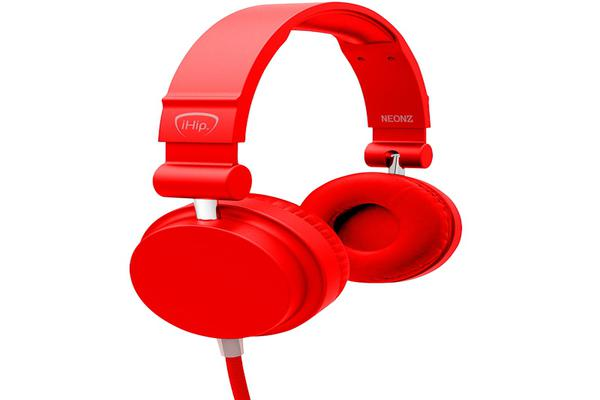headphone: (87, 9, 526, 400)
